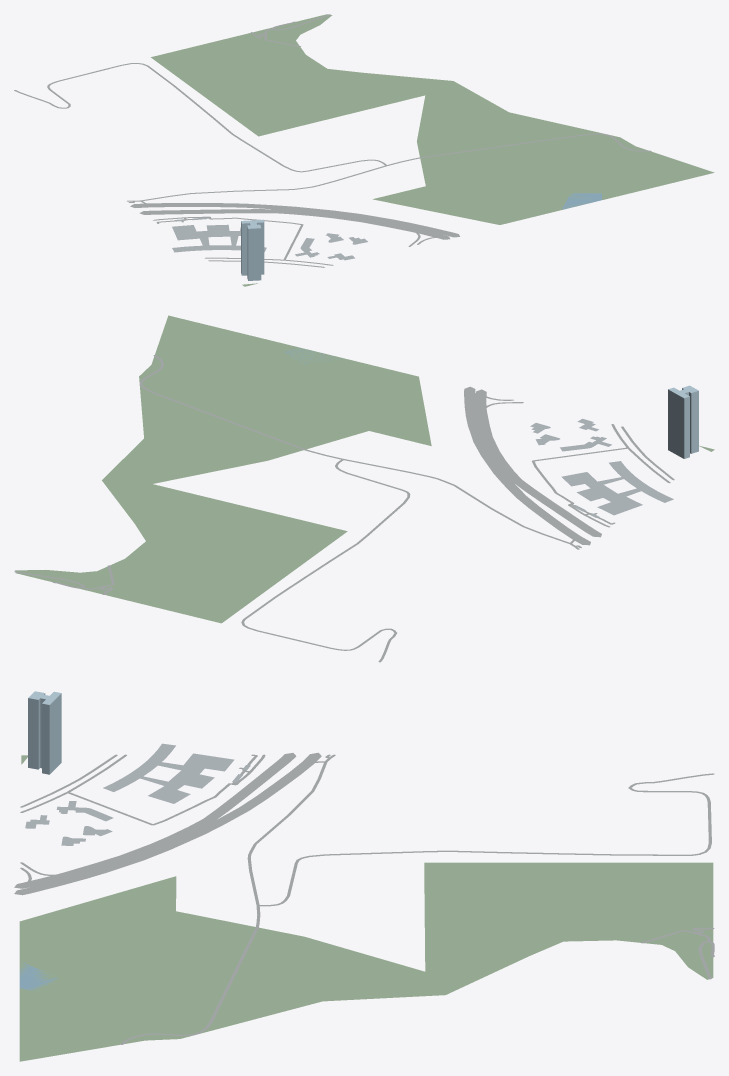
File: 4_4-known-coarse.glb
The picture shows the model from 3 angles, top to bottom: view 1: azimuth 30°, elevation 25°; view 2: azimuth 150°, elevation 25°; view 3: azimuth 270°, elevation 25°; orthographic projection. The views are drawn at different scales.
Size of the model in its own units: 704 by 72 by 656.
